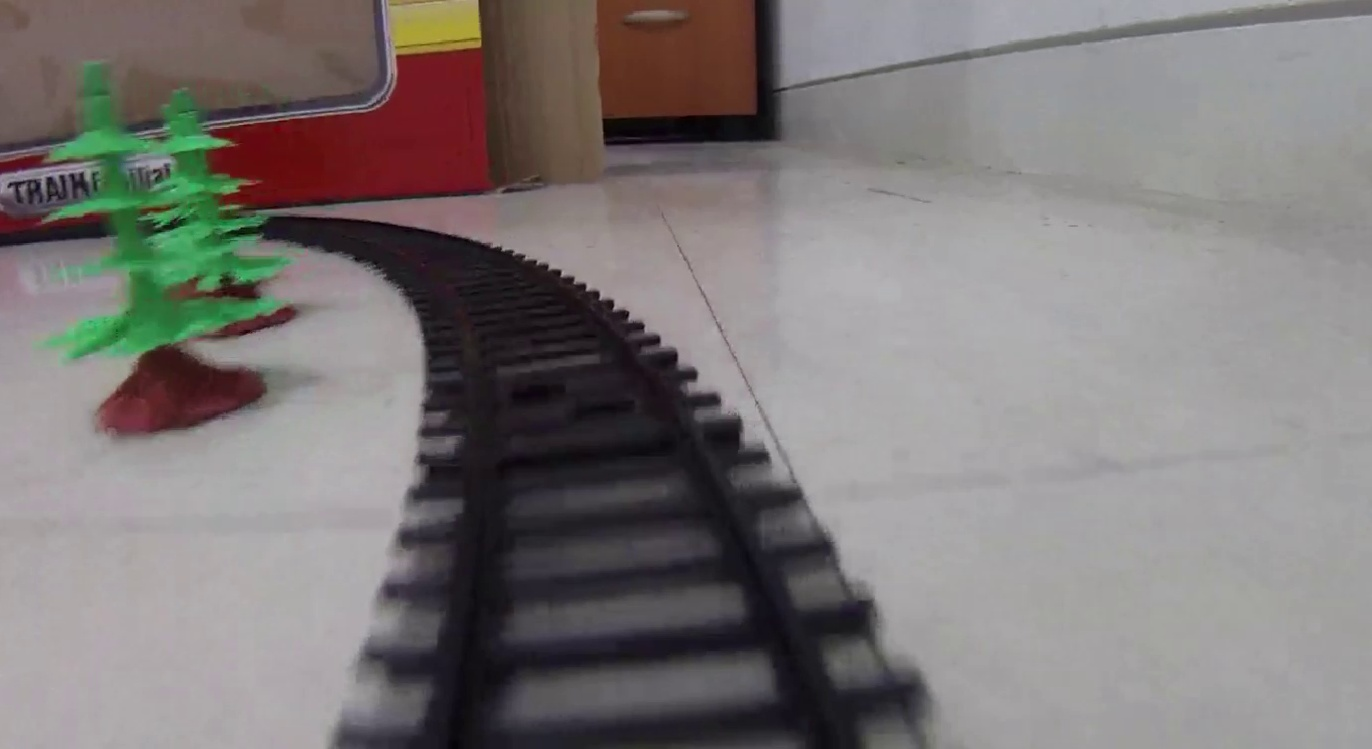tree: (49, 59, 267, 436)
